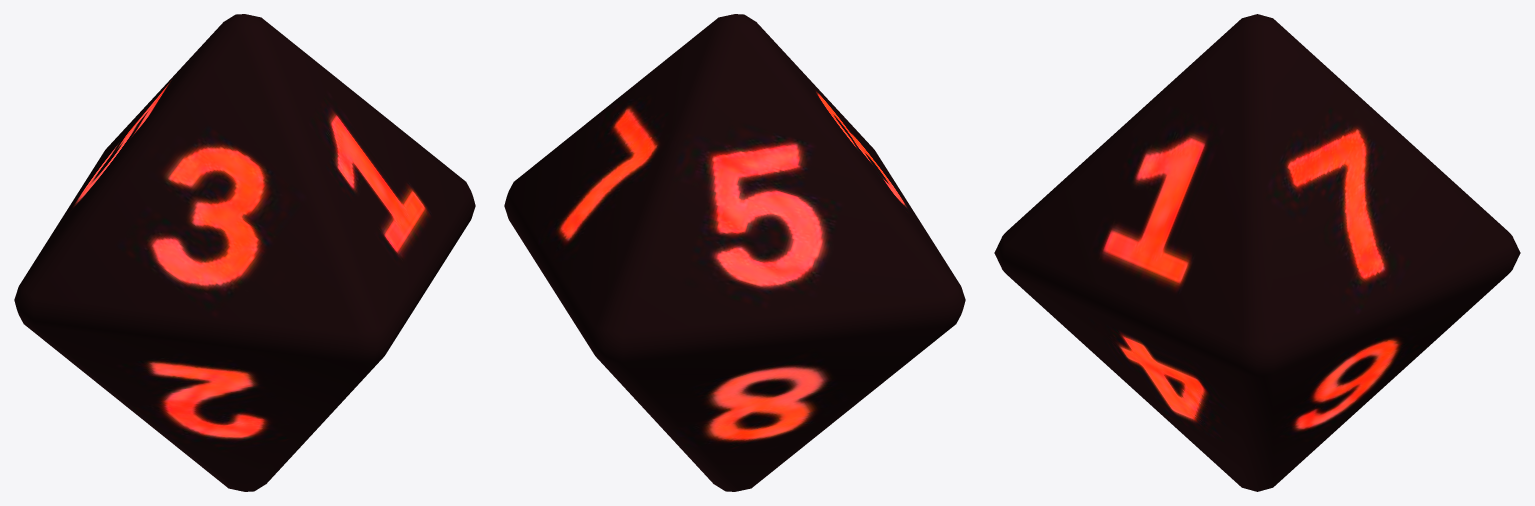
3 renders of one model, left to right at view 1: azimuth 30°, elevation 25°; view 2: azimuth 150°, elevation 25°; view 3: azimuth 270°, elevation 25°, orthographic.
Visible parts, largest first — view 1: 8Yellow; view 2: 8Yellow; view 3: 8Yellow.
Boxes of the visible parts, <box> form: 8Yellow: <box>14,14,475,491</box>; 8Yellow: <box>504,14,965,491</box>; 8Yellow: <box>994,14,1520,491</box>.
Bounding box in the file's own units: 1.62 × 1.62 × 1.62.
1 material, 1 textured.
